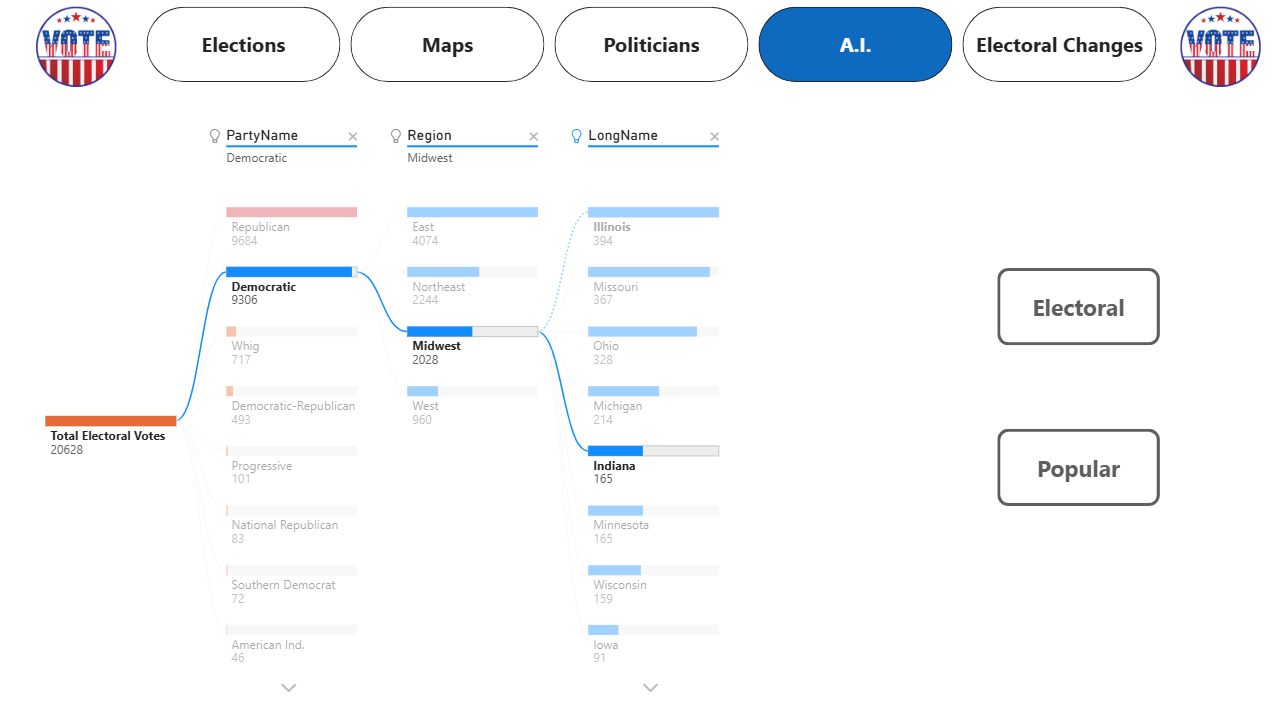

What the dashboard file says about the page in this screenshot:
{"tool":"powerbi","page":{"name":"A.I.","canvas":[1280,720],"ordinal":3},"visuals":[{"type":"pageNavigator","box":[150,10,1008.6,75],"z":0},{"type":"image","box":[1158.6,10,121.4,80],"z":1000},{"type":"image","box":[20,10,121.4,80],"z":2000},{"type":"decompositionTreeVisual","title":"Electoral Tree","fields":{"Analyze":["Election Results (Fact).Total Electoral Votes"],"ExplainBy":["Political Party (Dim).PartyName","State (Dim).Region","State (Dim).LongName"]},"box":[19.9,112.7,913.3,596.5],"z":3000},{"type":"decompositionTreeVisual","title":"Popular Tree","fields":{"ExplainBy":["Political Party (Dim).PartyName","State (Dim).Region","State (Dim).LongName"],"Analyze":["Election Results (Fact).Total Popular Votes"]},"box":[0,112.7,933.2,607.1],"z":4000},{"type":"actionButton","box":[996.8,270.4,161.7,76.9],"z":5000},{"type":"actionButton","box":[996.8,430.8,161.7,76.9],"z":6000}]}

Visuals, with their boxes in screenshot pixels (x1, y1, x2, y2), scaled from the page's 1280x720 canvas onto the 1273x710 screenshot:
pageNavigator: locate(149, 10, 1152, 84)
image: locate(1152, 10, 1272, 89)
image: locate(20, 10, 141, 89)
"Electoral Tree" decompositionTreeVisual: locate(20, 111, 928, 699)
"Popular Tree" decompositionTreeVisual: locate(0, 111, 928, 709)
actionButton: locate(991, 267, 1152, 342)
actionButton: locate(991, 425, 1152, 501)
